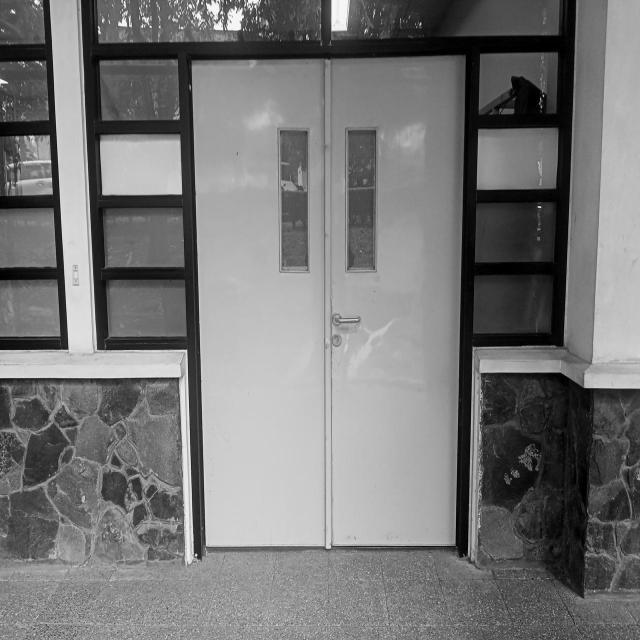door: (177, 38, 479, 554)
